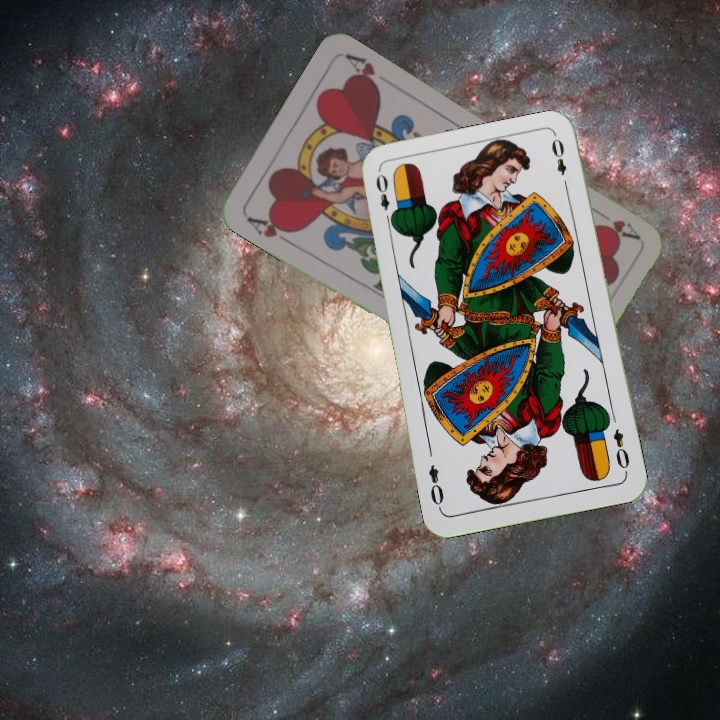EO: (372, 169, 397, 228), (609, 425, 632, 476)
HA: (587, 204, 641, 243), (242, 212, 298, 248)
